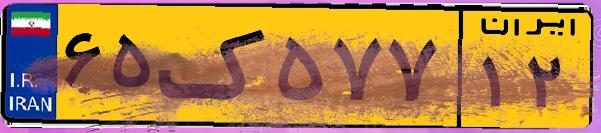1: (475, 38, 525, 113)
2: (525, 38, 570, 115)
5: (270, 28, 330, 110), (110, 28, 158, 98)
6: (57, 26, 110, 100)
7: (385, 28, 445, 110), (330, 28, 385, 110)
ک: (158, 12, 270, 120)
